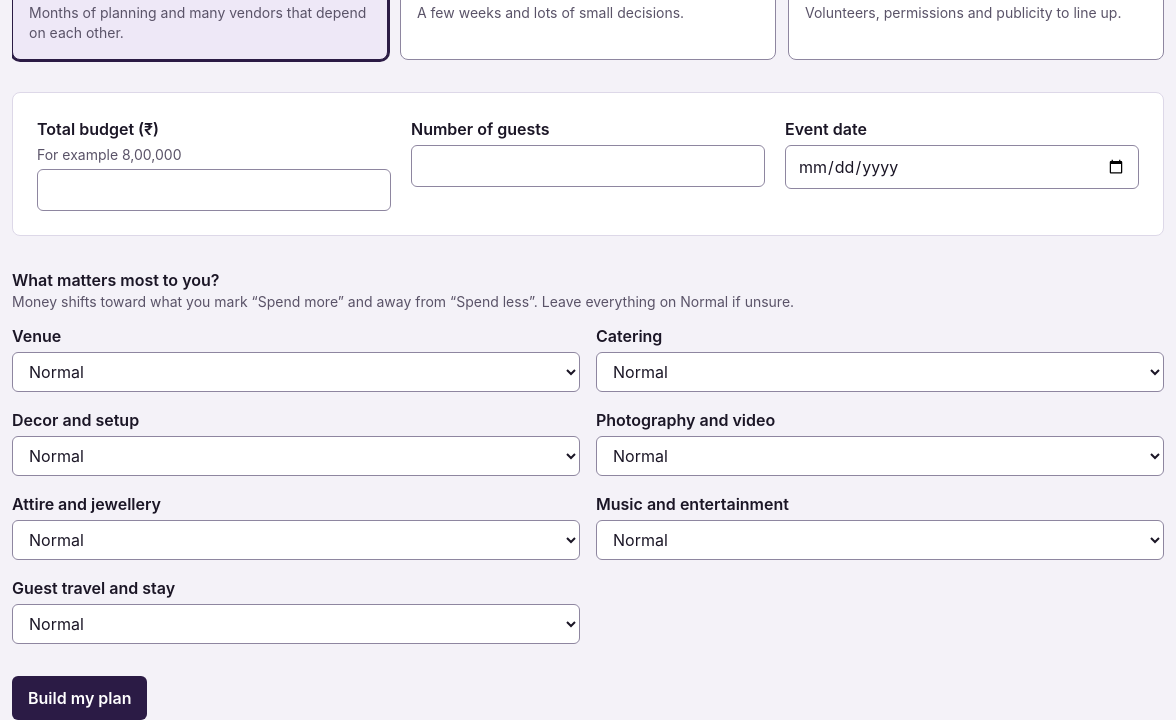
Test: axe audit: every page › setup form, empty and with validation errors showing
(page scrolled)
Click the button "Build my plan" at (80, 698), box x1=12 y1=676 x2=148 y2=719
(page scrolled)
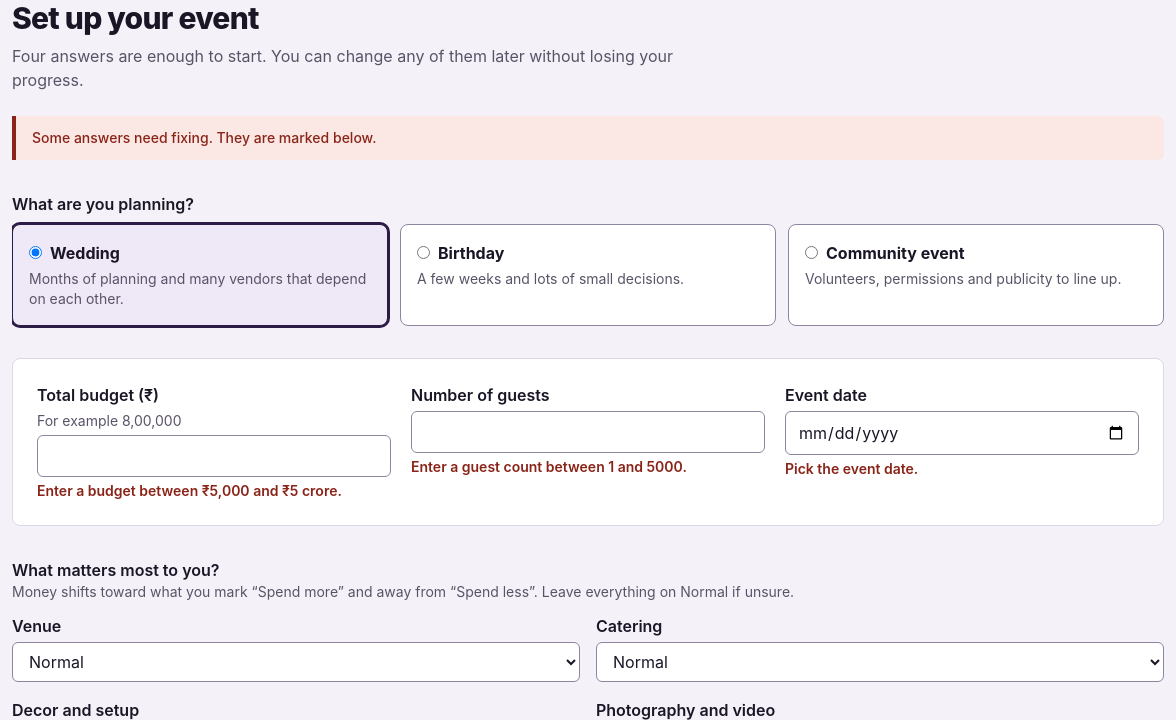
Expected: the message "Some answers need fixing. They are marked below." is shown, x1=12 y1=116 x2=1164 y2=160
